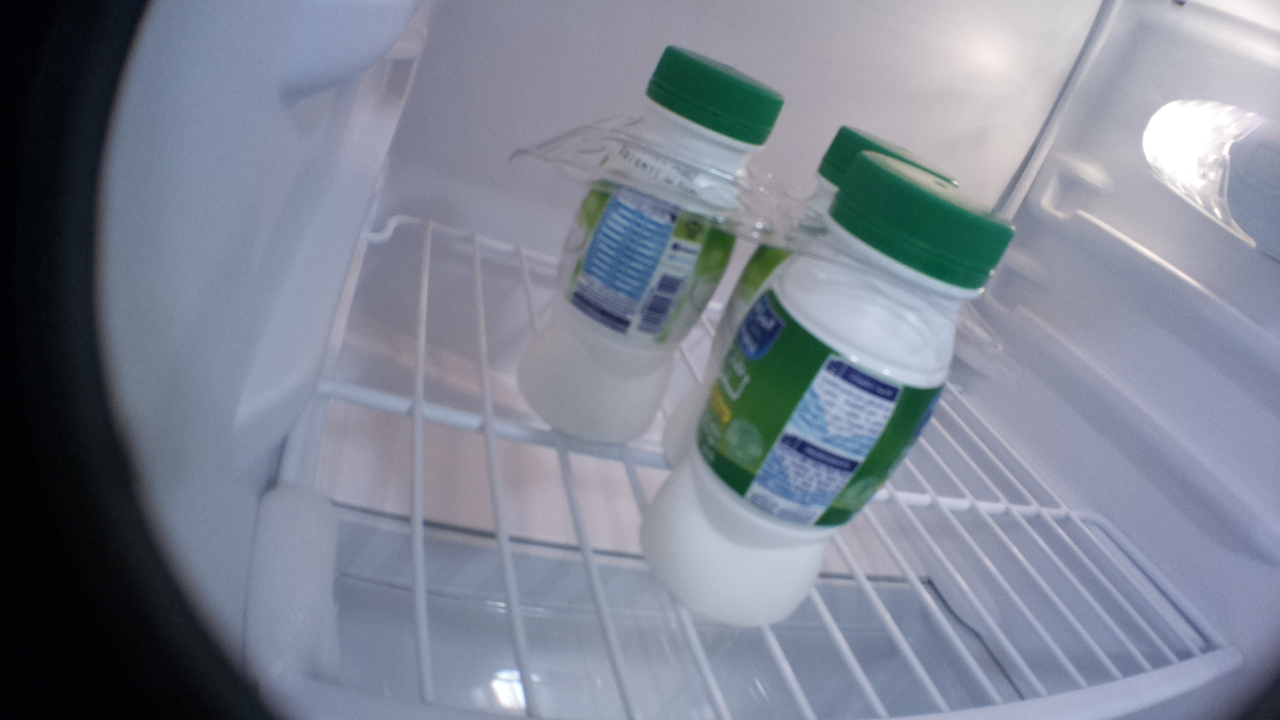laban: (637, 150, 1016, 630), (515, 45, 785, 443), (660, 126, 958, 476)
